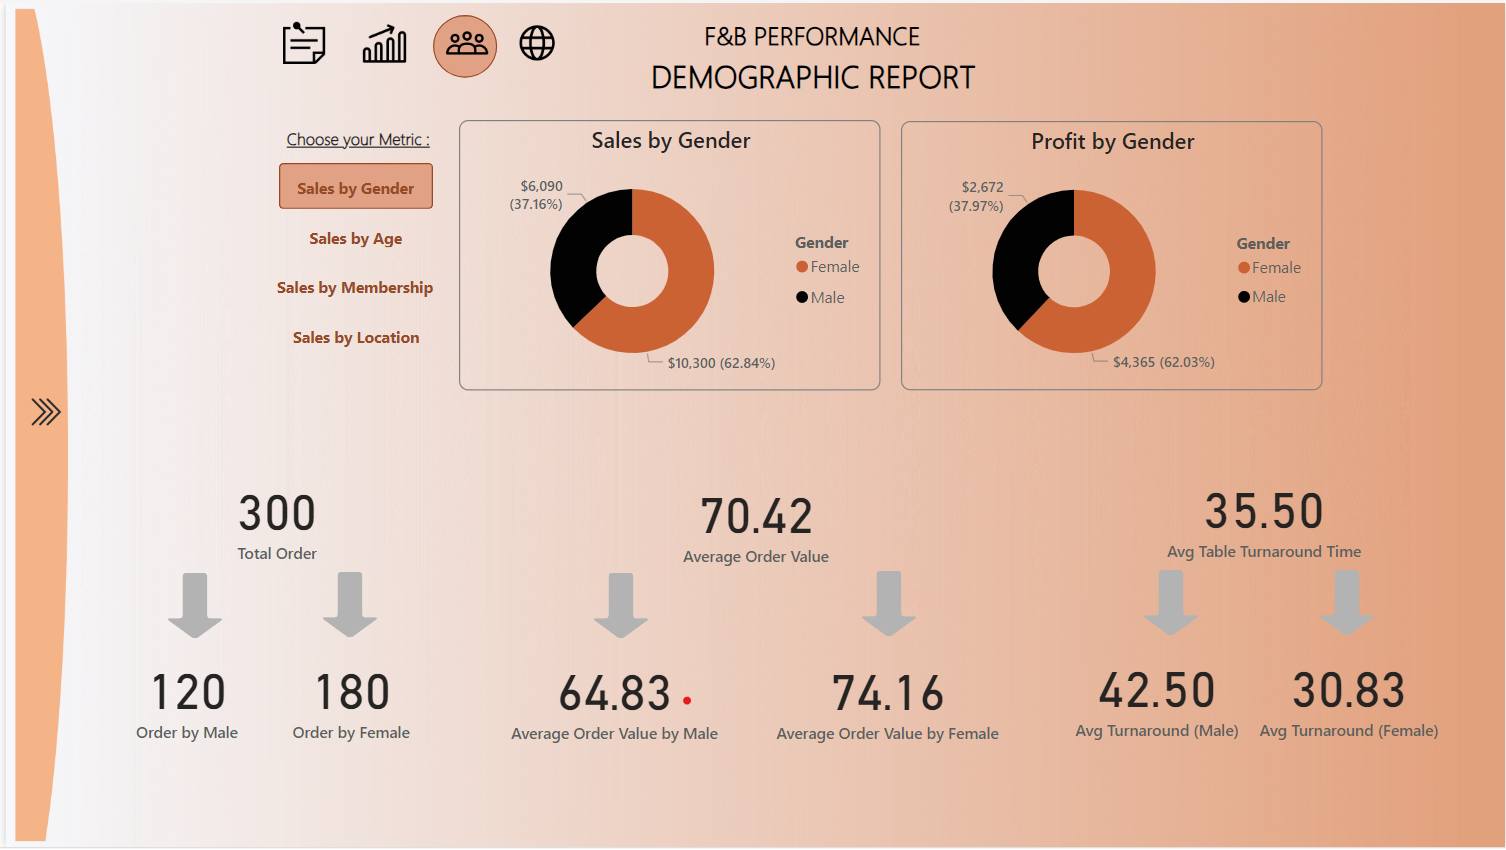

The page's visual inventory and layout, read from the dashboard file:
{"tool":"powerbi","page":{"name":"Demographic Report","canvas":[1280,720],"ordinal":2},"visuals":[{"type":"textbox","box":[472.6,1.1,426.5,99],"z":0,"group":"g1"},{"type":"card","fields":{"Values":["Sales Table.Average Order Value"]},"box":[539.7,374.3,201.5,133.7],"z":0,"group":"g3"},{"type":"card","fields":{"Values":["Sales Table.Average Turnaround Time (Male)"]},"box":[882.5,521.6,201.5,135.6],"z":0,"group":"g4"},{"type":"card","fields":{"Values":["Sales Table.Order by Male"]},"box":[54.2,524,201.5,135.6],"z":0,"group":"g2"},{"type":"card","fields":{"Values":["Sales Table.Average Turnaround Time (Female)"]},"box":[1045.6,521.6,203.4,135.6],"z":1000,"group":"g4"},{"type":"card","fields":{"Values":["Sales Table.Order by Female"]},"box":[193.4,524,203.4,135.6],"z":1000,"group":"g2"},{"type":"card","fields":{"Values":["Sales Table.Average Order Value by Male"]},"box":[418.8,525.7,202.3,133.9],"z":1000,"group":"g3"},{"type":"card","fields":{"Values":["Sales Table.Average Turnaround Time"]},"box":[974.1,369.5,201.5,133.7],"z":2000,"group":"g4"},{"type":"card","fields":{"Values":["Sales Table.Total Order"]},"box":[131.1,371.9,201.5,133.7],"z":2000,"group":"g2"},{"type":"card","fields":{"Values":["Sales Table.Average Order Value by Female"]},"box":[651.7,525.7,202.3,133.9],"z":2000,"group":"g3"},{"type":"shape","title":"1","box":[233,137,131.5,39.3],"z":3000},{"type":"shape","box":[970.4,483.1,49.5,56.8],"z":3000,"group":"g4"},{"type":"shape","box":[500.9,485.9,49.5,56.8],"z":3000,"group":"g3"},{"type":"shape","box":[137.3,486.1,49.5,56.8],"z":3000,"group":"g2"},{"type":"shape","box":[365,10,54.8,53.6],"z":4000},{"type":"shape","box":[1120.7,483.1,49.5,56.8],"z":4000,"group":"g4"},{"type":"shape","box":[729.9,484.1,49.5,56.8],"z":4000,"group":"g3"},{"type":"shape","box":[269.3,485.6,49.5,56.8],"z":4000,"group":"g2"},{"type":"donutChart","title":"Sales by Gender","fields":{"Y":["Sum(Sales Table.Total Revenue)"],"Series":["Demographics Table.Gender"]},"box":[387,100,360,231],"z":5000},{"type":"group","id":"g1","title":"Group 1","box":[472.6,1.1,426.5,99],"z":6000},{"type":"textbox","box":[235,101.9,182.3,36.2],"z":7000},{"type":"actionButton","title":"Sales Overview","box":[220.3,137.6,156.7,40.8],"z":15000},{"type":"actionButton","title":"TOP 5 Items","box":[244.9,178.4,107.3,42.3],"z":16000},{"type":"actionButton","title":"TOP 5 Items","box":[220.7,222.2,155.7,40.8],"z":17000},{"type":"actionButton","title":"TOP 5 Items","box":[222.2,264.6,154.2,40.8],"z":20000},{"type":"image","box":[0,0,61.1,720],"z":21000},{"type":"donutChart","title":"Profit by Gender","fields":{"Series":["Demographics Table.Gender"],"Y":["Sum(Sales Table.Profit)"]},"box":[764.2,100.4,359.5,230],"z":22000},{"type":"group","id":"g2","title":"Total Orders","box":[54.2,371.9,342.6,287.6],"z":23000},{"type":"group","id":"g3","title":"Total Order Value","box":[418.8,374.3,435.2,285.3],"z":24000},{"type":"group","id":"g4","title":"Total Orders","box":[882.5,369.5,366.4,287.6],"z":25000},{"type":"image","box":[230.5,11.2,47.3,46],"z":41000},{"type":"image","box":[300,11,47,46],"z":42000},{"type":"image","box":[370,11,47,46],"z":43000},{"type":"image","box":[430,11,47,46],"z":44000},{"type":"image","box":[0,328.5,67.6,41.1],"z":46000}]}

Visuals, with their boxes in screenshot pixels (x1, y1, x2, y2), scaled from the page's 1280x720 canvas onto the 1506x850 screenshot:
textbox: [x1=556, y1=1, x2=1058, y2=118]
card - Sales Table.Average Order Value: [x1=635, y1=442, x2=872, y2=600]
card - Sales Table.Average Turnaround Time (Male): [x1=1038, y1=616, x2=1275, y2=776]
card - Sales Table.Order by Male: [x1=64, y1=619, x2=301, y2=779]
card - Sales Table.Average Turnaround Time (Female): [x1=1230, y1=616, x2=1470, y2=776]
card - Sales Table.Order by Female: [x1=228, y1=619, x2=467, y2=779]
card - Sales Table.Average Order Value by Male: [x1=493, y1=621, x2=731, y2=779]
card - Sales Table.Average Turnaround Time: [x1=1146, y1=436, x2=1383, y2=594]
card - Sales Table.Total Order: [x1=154, y1=439, x2=391, y2=597]
card - Sales Table.Average Order Value by Female: [x1=767, y1=621, x2=1005, y2=779]
"1" shape: [x1=274, y1=162, x2=429, y2=208]
shape: [x1=1142, y1=570, x2=1200, y2=637]
shape: [x1=589, y1=574, x2=648, y2=641]
shape: [x1=162, y1=574, x2=220, y2=641]
shape: [x1=429, y1=12, x2=494, y2=75]
shape: [x1=1319, y1=570, x2=1377, y2=637]
shape: [x1=859, y1=572, x2=917, y2=639]
shape: [x1=317, y1=573, x2=375, y2=640]
"Sales by Gender" donutChart: [x1=455, y1=118, x2=879, y2=391]
"Group 1" group: [x1=556, y1=1, x2=1058, y2=118]
textbox: [x1=276, y1=120, x2=491, y2=163]
"Sales Overview" actionButton: [x1=259, y1=162, x2=444, y2=211]
"TOP 5 Items" actionButton: [x1=288, y1=211, x2=414, y2=261]
"TOP 5 Items" actionButton: [x1=260, y1=262, x2=443, y2=310]
"TOP 5 Items" actionButton: [x1=261, y1=312, x2=443, y2=361]
image: [x1=0, y1=0, x2=72, y2=849]
"Profit by Gender" donutChart: [x1=899, y1=119, x2=1322, y2=390]
"Total Orders" group: [x1=64, y1=439, x2=467, y2=779]
"Total Order Value" group: [x1=493, y1=442, x2=1005, y2=779]
"Total Orders" group: [x1=1038, y1=436, x2=1469, y2=776]
image: [x1=271, y1=13, x2=327, y2=68]
image: [x1=353, y1=13, x2=408, y2=67]
image: [x1=435, y1=13, x2=491, y2=67]
image: [x1=506, y1=13, x2=561, y2=67]
image: [x1=0, y1=388, x2=80, y2=436]
